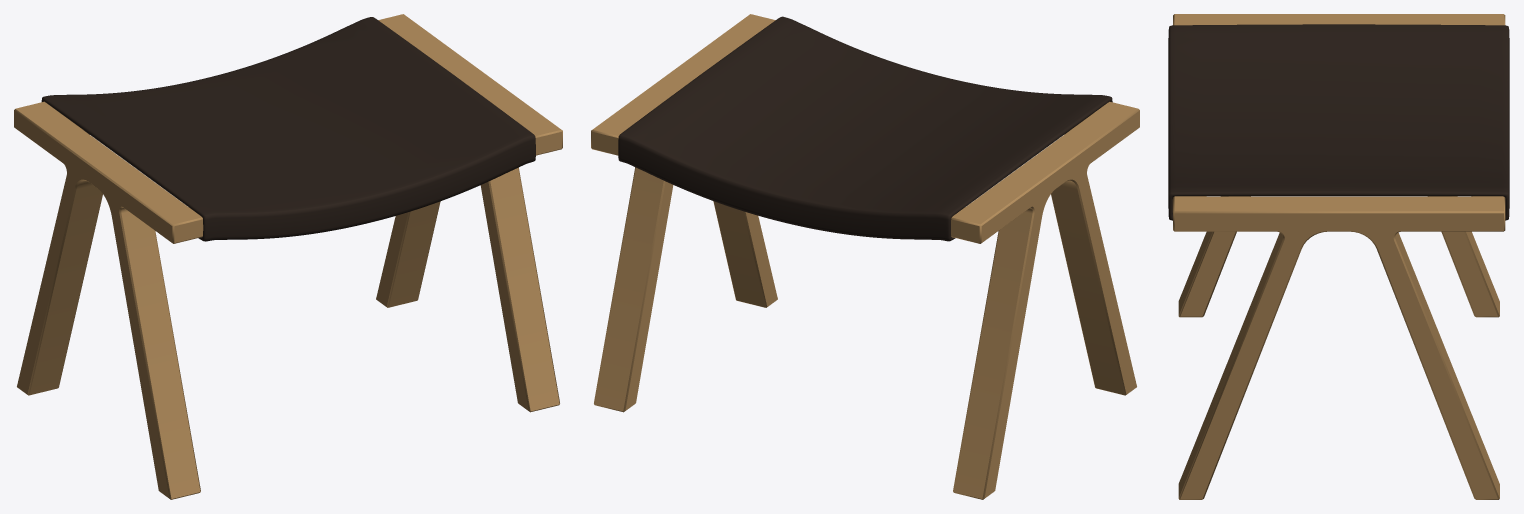
3 views of the same model, side by side, from view 1: azimuth 30°, elevation 25°; view 2: azimuth 150°, elevation 25°; view 3: azimuth 270°, elevation 25° (orthographic). The views are drawn at different scales.
Visible parts, largest first — view 1: arch25_015_04, arch25_015_02; view 2: arch25_015_04, arch25_015_02; view 3: arch25_015_04, arch25_015_02.
Boxes of the visible parts, x1,y1,x2,y2 form: arch25_015_04: (41, 17, 535, 241); arch25_015_02: (14, 14, 562, 499); arch25_015_04: (618, 16, 1112, 241); arch25_015_02: (591, 14, 1139, 499); arch25_015_04: (1168, 24, 1509, 220); arch25_015_02: (1173, 14, 1505, 499).
Bounding box in the file's own units: 619 × 427 × 449.
